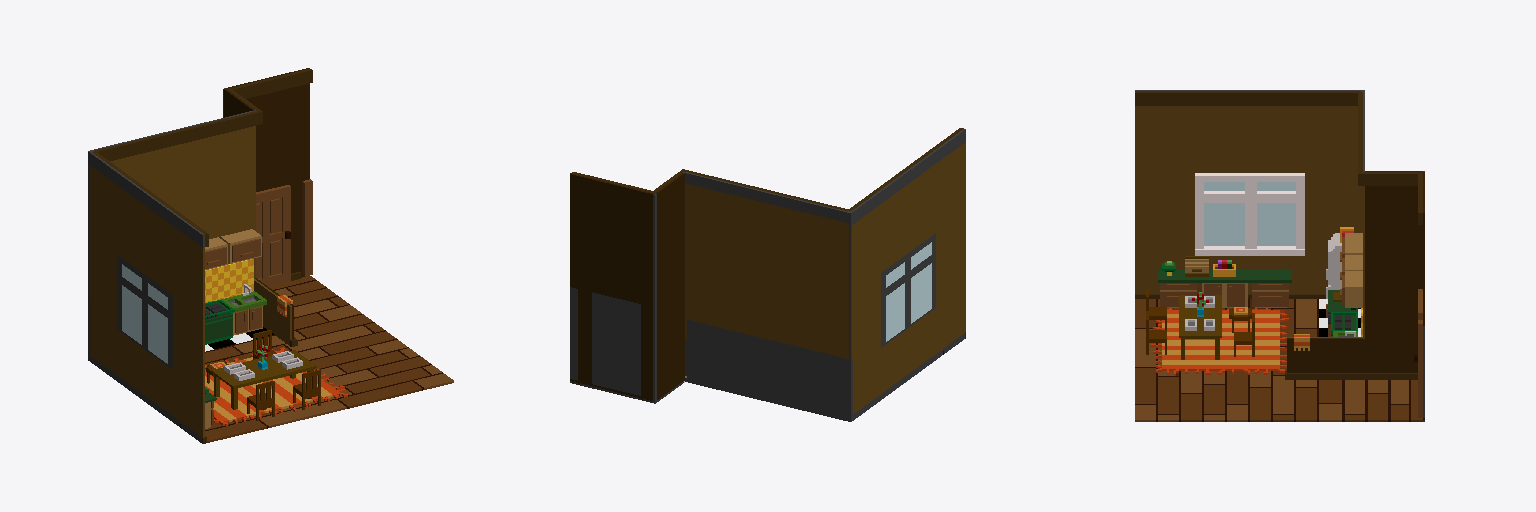
3 renders of one model, left to right at view 1: azimuth 30°, elevation 25°; view 2: azimuth 150°, elevation 25°; view 3: azimuth 270°, elevation 25°, orthographic.
Bounding box in the file's own units: 126 × 100 × 126.
1 materials, 1 textured.